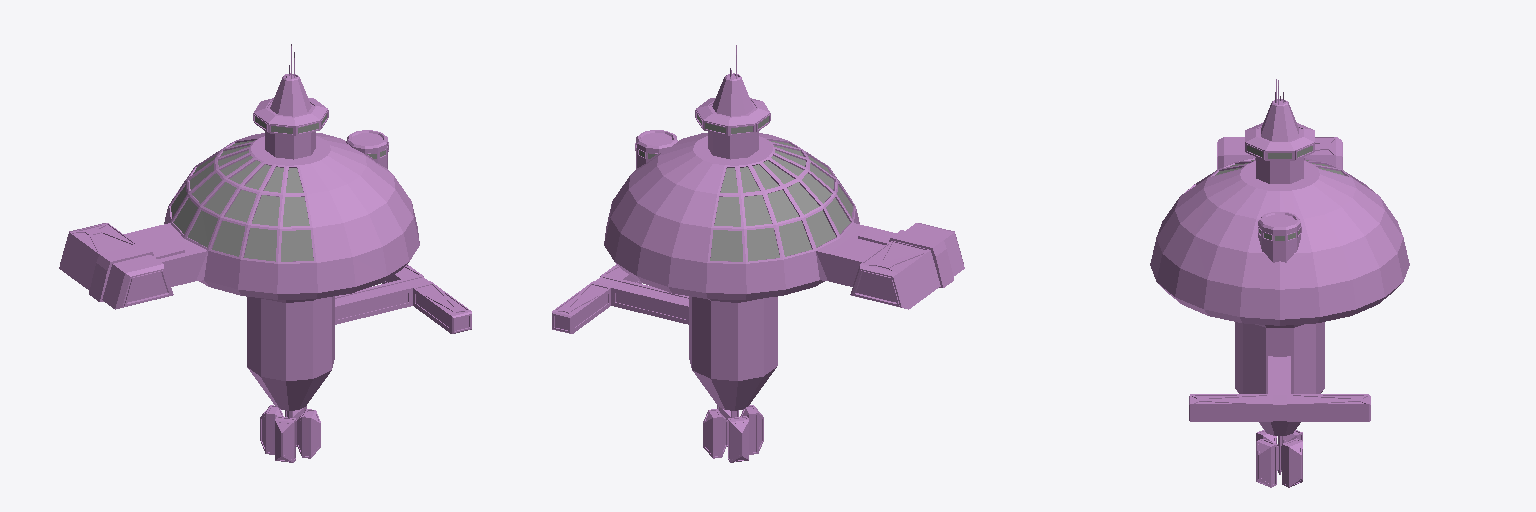
File: arctic_outpost.obj
The picture shows the model from 3 angles: view 1: azimuth 30°, elevation 25°; view 2: azimuth 150°, elevation 25°; view 3: azimuth 270°, elevation 25°; orthographic projection.
Parts seen in each view (by area): view 1: outpost_matmerged; view 2: outpost_matmerged; view 3: outpost_matmerged.
Boxes of the visible parts, box(x1,y1,x2,y2) form: outpost_matmerged: box(59, 44, 471, 462); outpost_matmerged: box(552, 45, 964, 462); outpost_matmerged: box(1150, 79, 1409, 487).
Size of the model in its own units: 2.54 by 2.9 by 1.67.